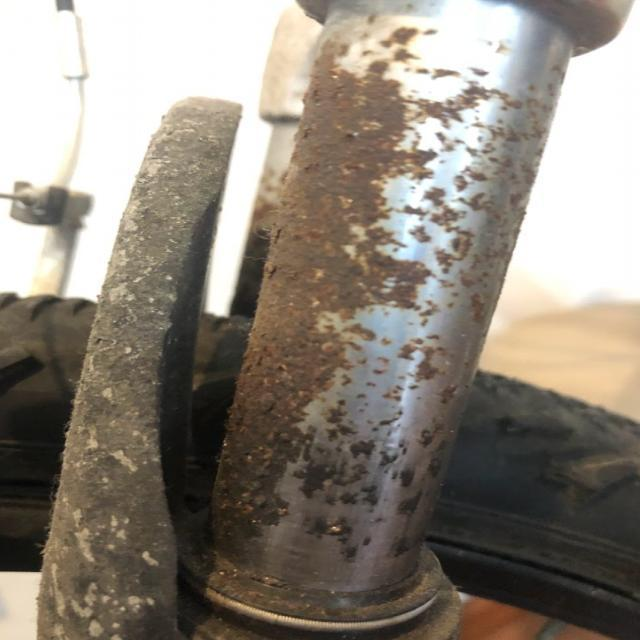Corrosion: (207, 26, 569, 554)
